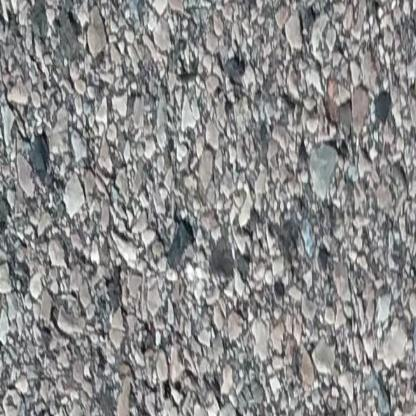Cracks: (410, 0, 416, 185)
